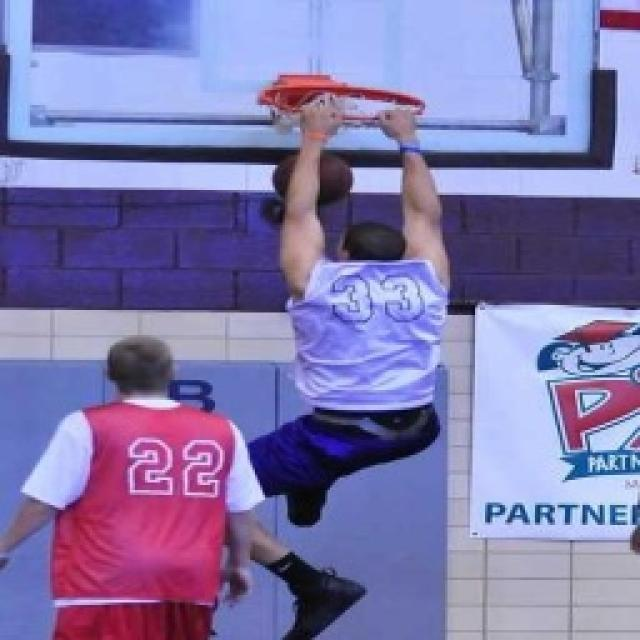rim: (269, 146, 359, 214)
